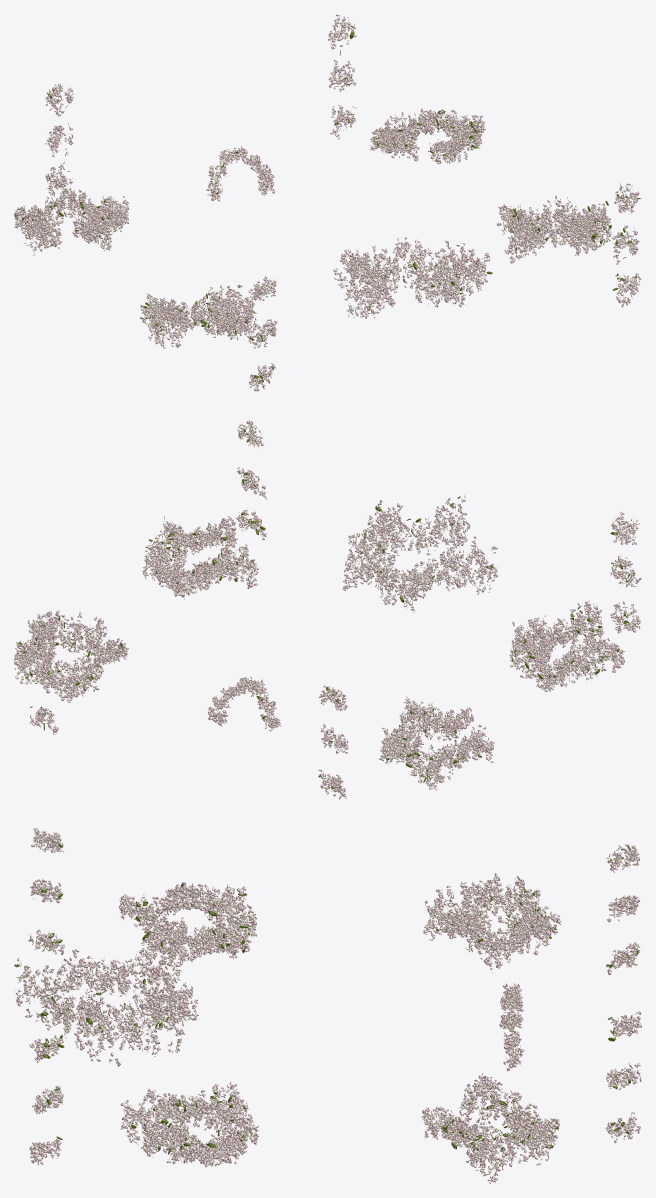
Rendered from R5_Blossoms.fbx.
3 views of the same model, one above another, from view 1: azimuth 30°, elevation 25°; view 2: azimuth 150°, elevation 25°; view 3: azimuth 270°, elevation 25° (orthographic). The views are drawn at different scales.
Parts seen in each view (by area): view 1: R5_Blossoms; view 2: R5_Blossoms; view 3: R5_Blossoms.
Part boxes in pixels (box(x1,y1,x2,y2)): R5_Blossoms: box(14, 14, 641, 391); R5_Blossoms: box(14, 420, 641, 799); R5_Blossoms: box(14, 828, 641, 1183).
Size of the model in its own units: 56.29 by 13.62 by 56.18.
